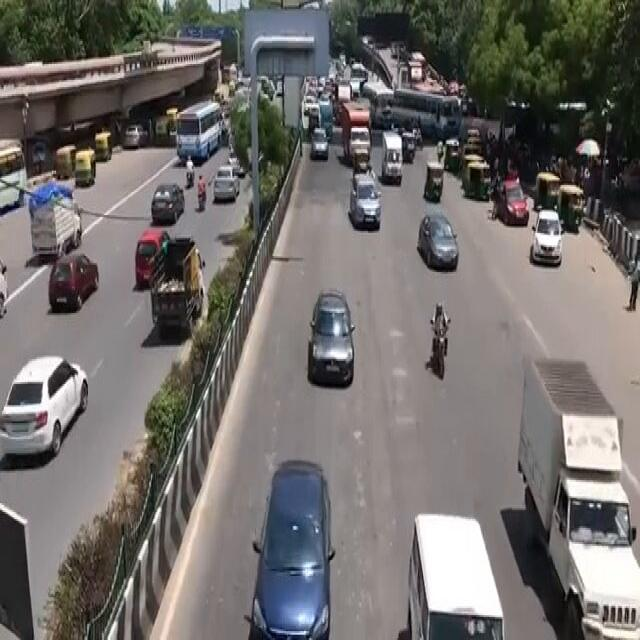three_wheeler: (419, 158, 446, 204)
